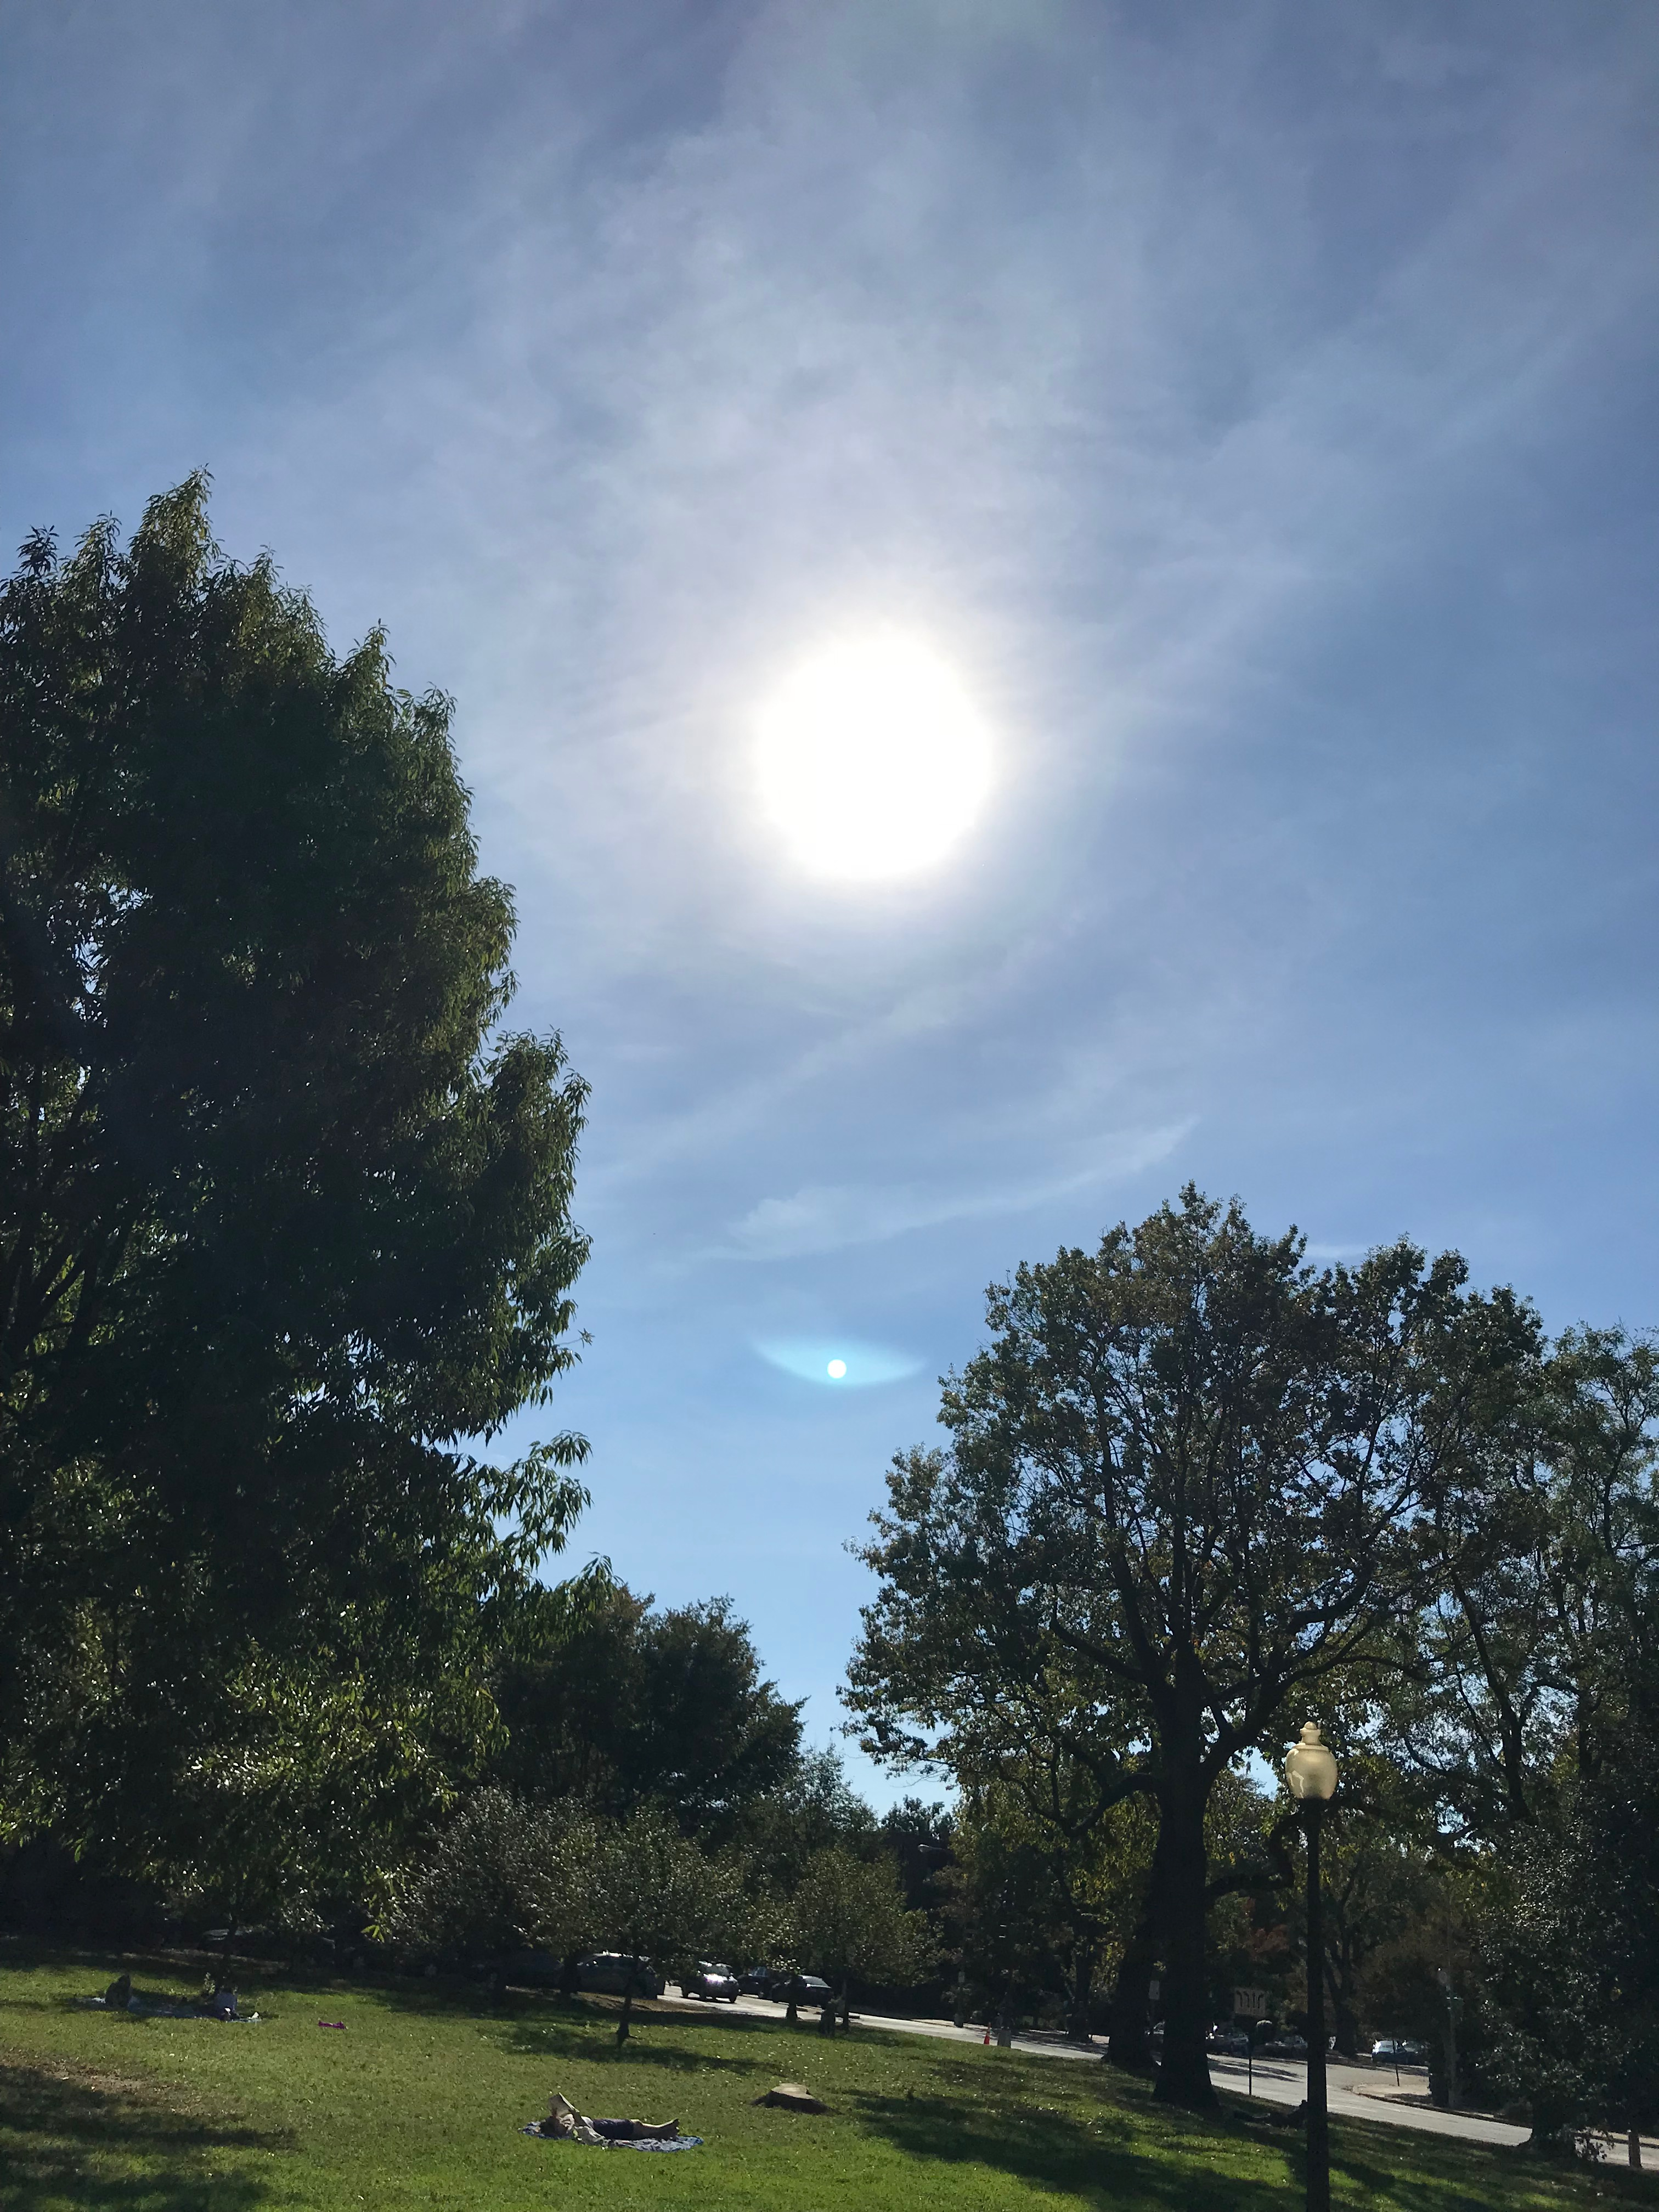flare: (826, 1357, 850, 1381)
